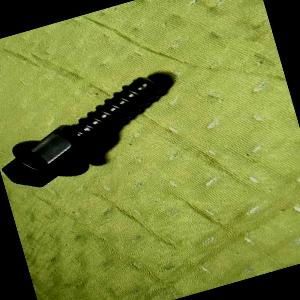parafuso: (0, 66, 185, 196)
